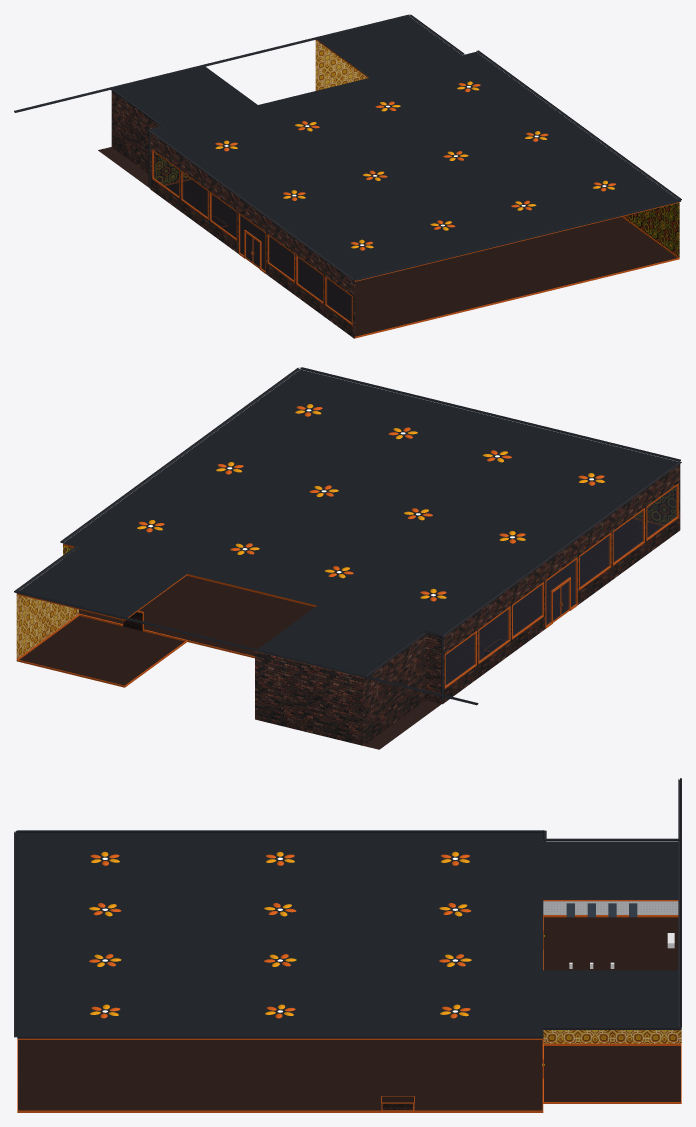
The model's file is existing_shop_v2.glb.
The picture shows the model from 3 angles, top to bottom: view 1: azimuth 30°, elevation 25°; view 2: azimuth 150°, elevation 25°; view 3: azimuth 270°, elevation 25°; orthographic projection. The views are drawn at different scales.
Parts seen in each view (by area): view 1: mainRoofDeck, floor, WALL__existing_shop_window_wall, brRoofDeck, wcRoofDeck, wcLeftBrickWall, rightWall, brRearWall, frontSkirt, capMesh.005, gutterOuter.005, glassPane.002 (+11 smaller); view 2: mainRoofDeck, floor, WALL__existing_shop_window_wall, wcRearBrickWall, brRoofDeck, wcRoofDeck, brFloor, wcLeftBrickWall, brRightWall, storeCornerGapWall, wcOutdoorGapFloor, glassPane (+12 smaller); view 3: mainRoofDeck, floor, wcRoofDeck, brRoofDeck, brFloor, wcFloor, brLeftWall, capMesh.008, capMesh, rightSkirt, wcLeftTileWall, gutterOuter.008 (+4 smaller).
Part boxes in pixels (x1,y1,x2,y2): mainRoofDeck: (152,52,677,278); floor: (166,180,676,336); WALL__existing_shop_window_wall: (150,133,355,338); brRoofDeck: (317,17,461,77); wcRoofDeck: (113,66,257,127); wcLeftBrickWall: (111,91,164,173); rightWall: (623,203,679,257); brRearWall: (315,40,367,90); frontSkirt: (355,257,679,338); capMesh.005: (14,14,409,111); gutterOuter.005: (15,15,409,112); glassPane.002: (211,194,236,238); mainRoofDeck: (63,369,678,634); floor: (79,519,661,684); WALL__existing_shop_window_wall: (443,464,680,703); wcRearBrickWall: (255,651,362,745); brRoofDeck: (19,547,186,619); wcRoofDeck: (255,605,424,677); brFloor: (19,616,184,685); wcLeftBrickWall: (363,634,425,745); brRightWall: (16,594,78,658); storeCornerGapWall: (425,633,442,704); wcOutdoorGapFloor: (363,700,441,749); glassPane: (445,634,475,685); mainRoofDeck: (17,832,543,1035); floor: (18,1040,542,1110); wcRoofDeck: (543,841,678,899); brRoofDeck: (543,970,678,1026); brFloor: (542,1045,680,1103); wcFloor: (544,917,678,970); brLeftWall: (543,1030,681,1043); capMesh.008: (17,1035,543,1037); capMesh: (17,830,543,832); rightSkirt: (17,1110,542,1112); wcLeftTileWall: (543,901,678,914); gutterOuter.008: (17,1037,543,1038).
Size of what is drawn, in the model's own units: 88.48 by 12.35 by 96.53.
Materials: 31 (20 with a texture image).
